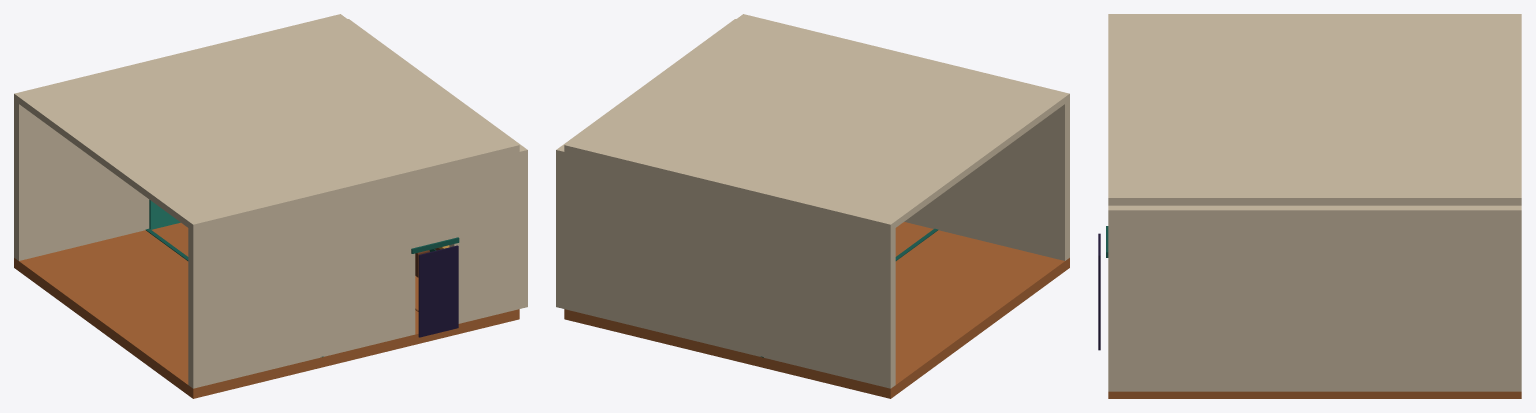
The model's file is lantern_greenhouse_room_bloom.gltf.
The picture shows the model from 3 angles, left to right: view 1: azimuth 30°, elevation 25°; view 2: azimuth 150°, elevation 25°; view 3: azimuth 270°, elevation 25°; orthographic projection. The views are drawn at different scales.
Visible parts, largest first — view 1: ceiling, right_wall, floor, left_wall, right_wall.2, doorway, lintel, back_wall, left_dado; view 2: ceiling, left_wall, floor, right_wall, back_wall; view 3: ceiling, back_wall, floor.
Boxes of the visible parts, box(x1,y1,x2,y2) form: ceiling: box(14, 14, 519, 231); right_wall: box(188, 177, 415, 388); floor: box(14, 222, 519, 398); left_wall: box(14, 100, 149, 260); right_wall.2: box(449, 152, 519, 323); doorway: box(418, 245, 458, 337); lintel: box(415, 168, 454, 247); back_wall: box(348, 19, 527, 308); left_dado: box(149, 199, 180, 229); ceiling: box(564, 14, 1069, 231); left_wall: box(564, 152, 895, 388); floor: box(564, 222, 1069, 398); right_wall: box(904, 100, 1069, 260); back_wall: box(556, 19, 735, 308); ceiling: box(1108, 14, 1521, 205); back_wall: box(1108, 205, 1521, 391); floor: box(1108, 391, 1521, 398).
Bounding box in the file's own units: 10.25 × 5.1 × 9.72.
